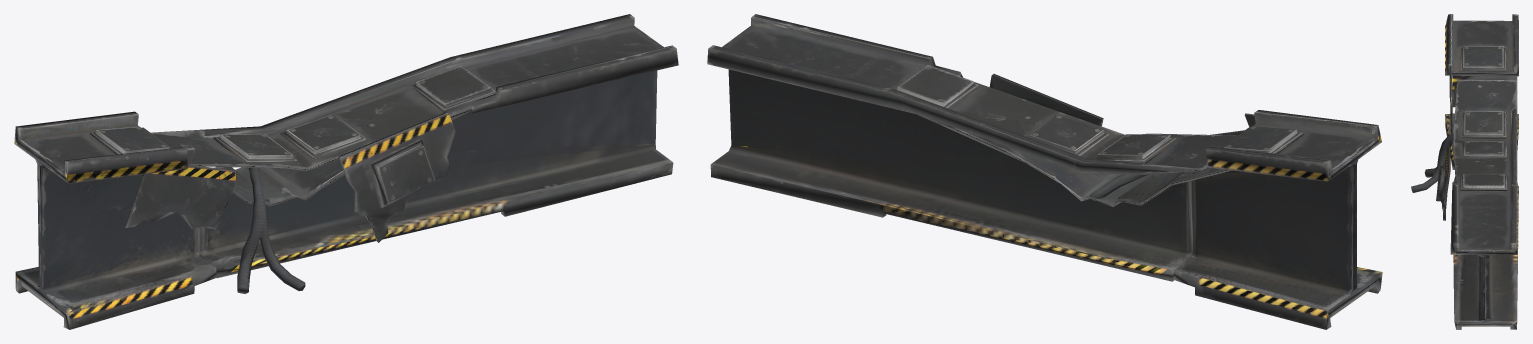
The model's file is debris_beam.glb.
3 renders of one model, left to right at view 1: azimuth 30°, elevation 25°; view 2: azimuth 150°, elevation 25°; view 3: azimuth 270°, elevation 25°, orthographic. The views are drawn at different scales.
Visible parts, largest first — view 1: debris_beam; view 2: debris_beam; view 3: debris_beam.
Part boxes in pixels (left/top/right/bottom): debris_beam: left=14, top=14, right=678, bottom=329; debris_beam: left=707, top=14, right=1382, bottom=329; debris_beam: left=1411, top=14, right=1518, bottom=329.
Size of the model in its own units: 8 by 2.05 by 1.77.
Materials: 1 (1 with a texture image).
